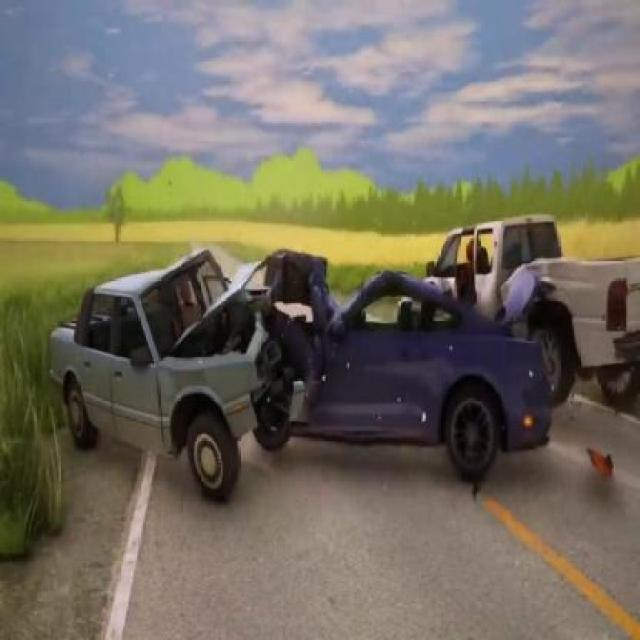accident: (0, 245, 582, 531)
